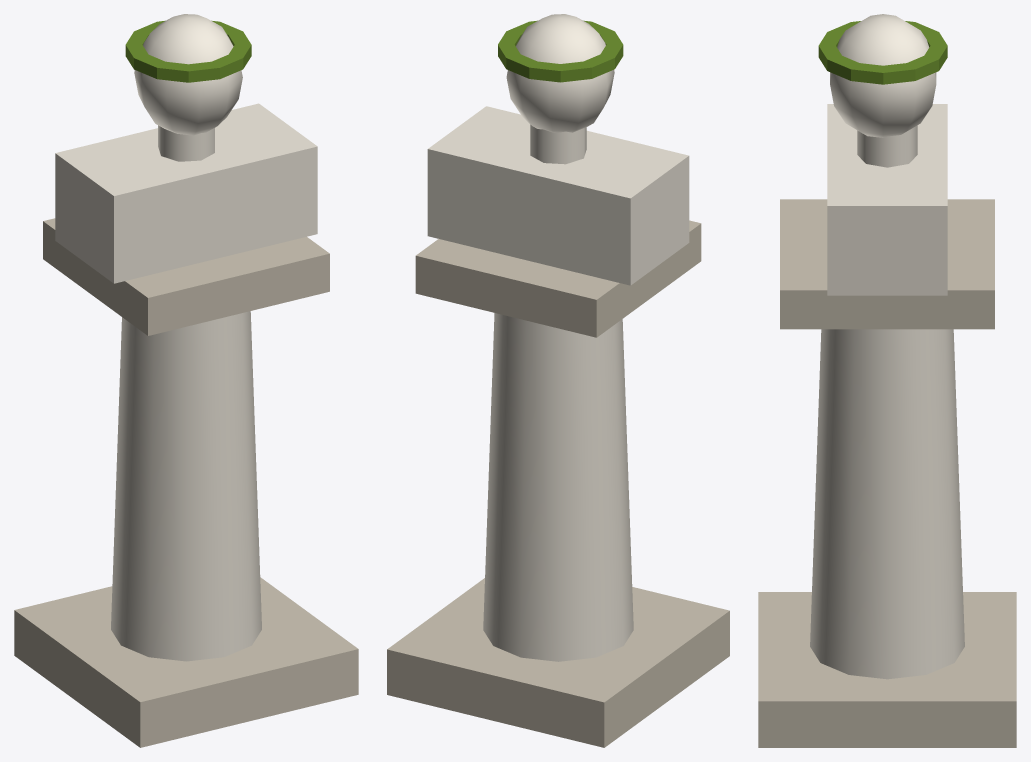
Rendered from im_bust.glb.
3 renders of one model, left to right at view 1: azimuth 30°, elevation 25°; view 2: azimuth 150°, elevation 25°; view 3: azimuth 270°, elevation 25°, orthographic. The views are drawn at different scales.
Parts seen in each view (by area): view 1: im_bust; view 2: im_bust; view 3: im_bust.
Boxes of the visible parts, left/top/right/bottom form: im_bust: left=14, top=14, right=358, bottom=747; im_bust: left=387, top=14, right=729, bottom=747; im_bust: left=758, top=14, right=1016, bottom=747.
Size of the model in its own units: 0.6002 by 1.73 by 0.6002.
